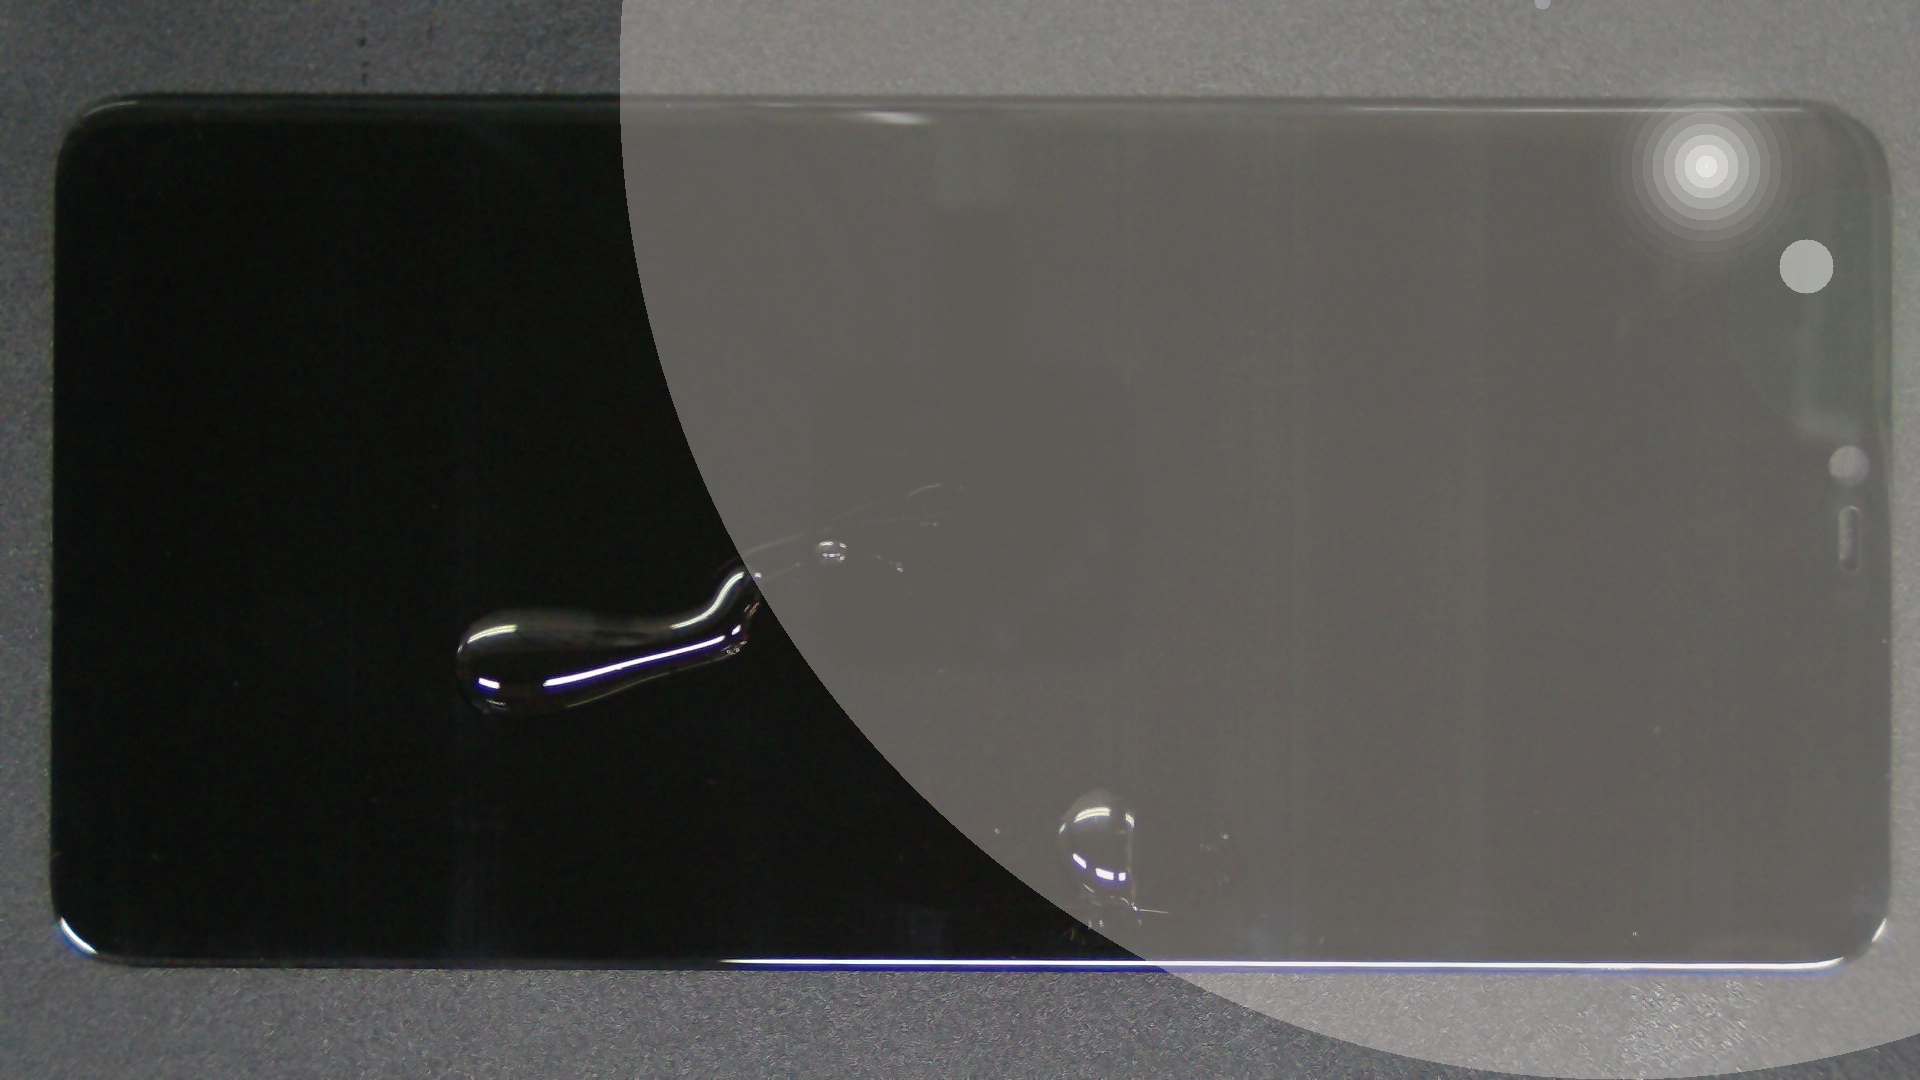oil: (550, 393, 1648, 1080), (415, 269, 1244, 808), (372, 281, 1114, 847)
